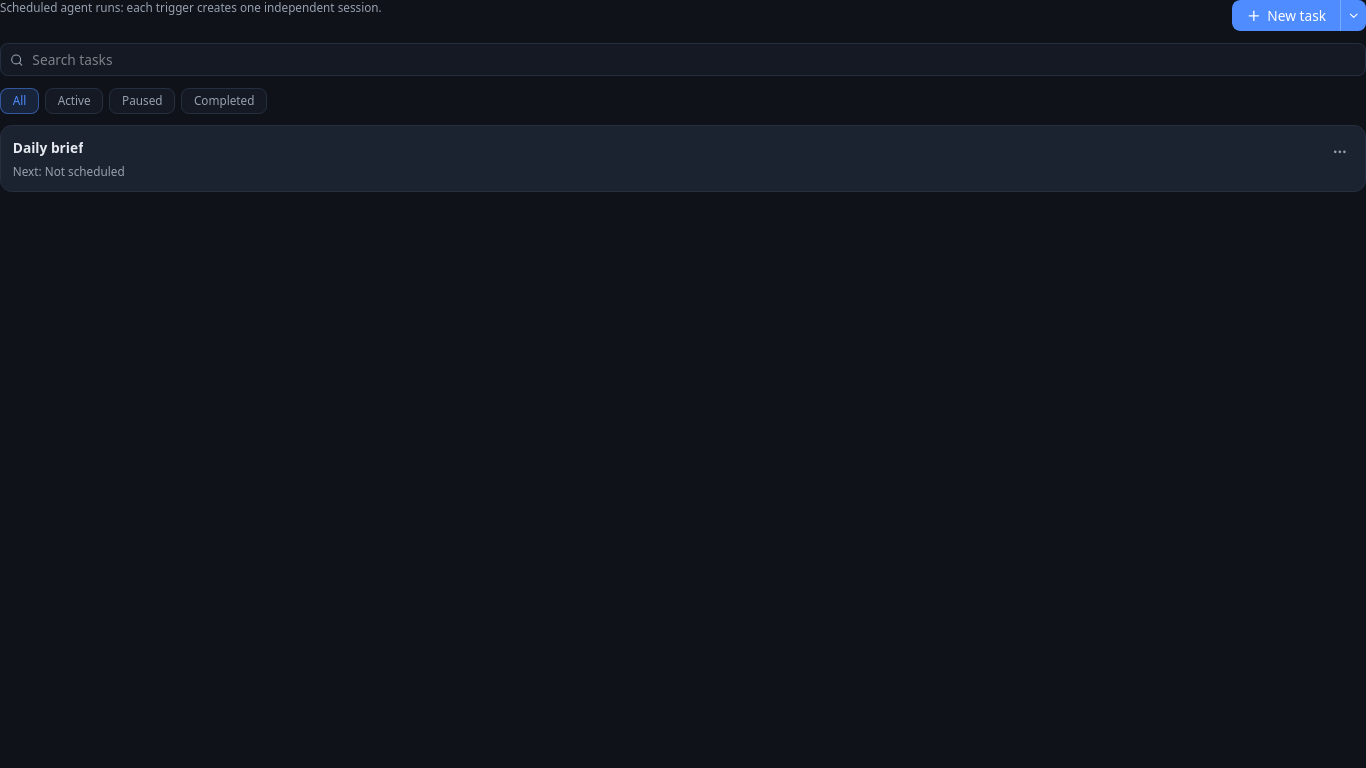
Test: AutomationsView › refuses an unusable run limit instead of saving it
The image size is (1366, 768).
Click the text "Daily brief". click: [48, 148]
box: [13,138,84,158]
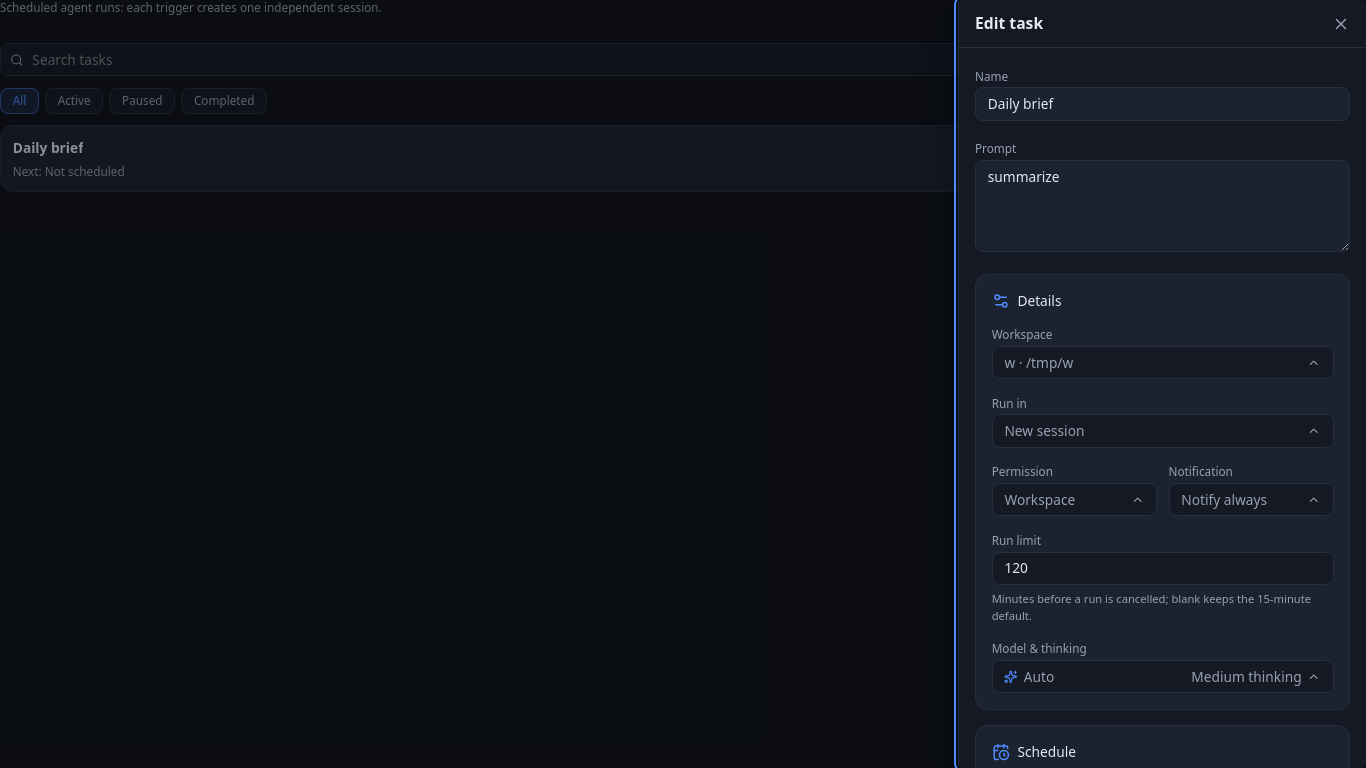
Replace the text in the number field with "0". click: [1163, 568]
box: [993,552,1333,584]
(page scrolled)
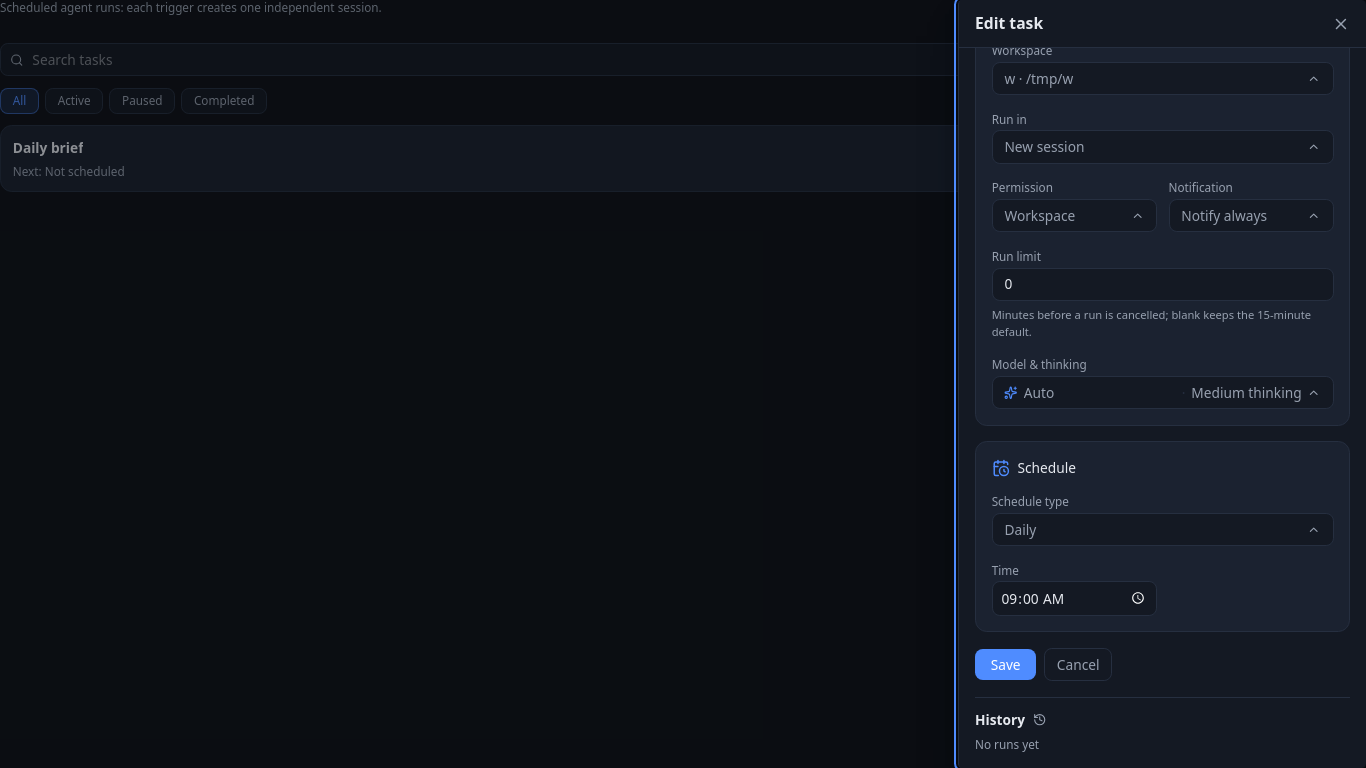
Click the button "Save". click: [1006, 665]
box: [975,649,1036,680]
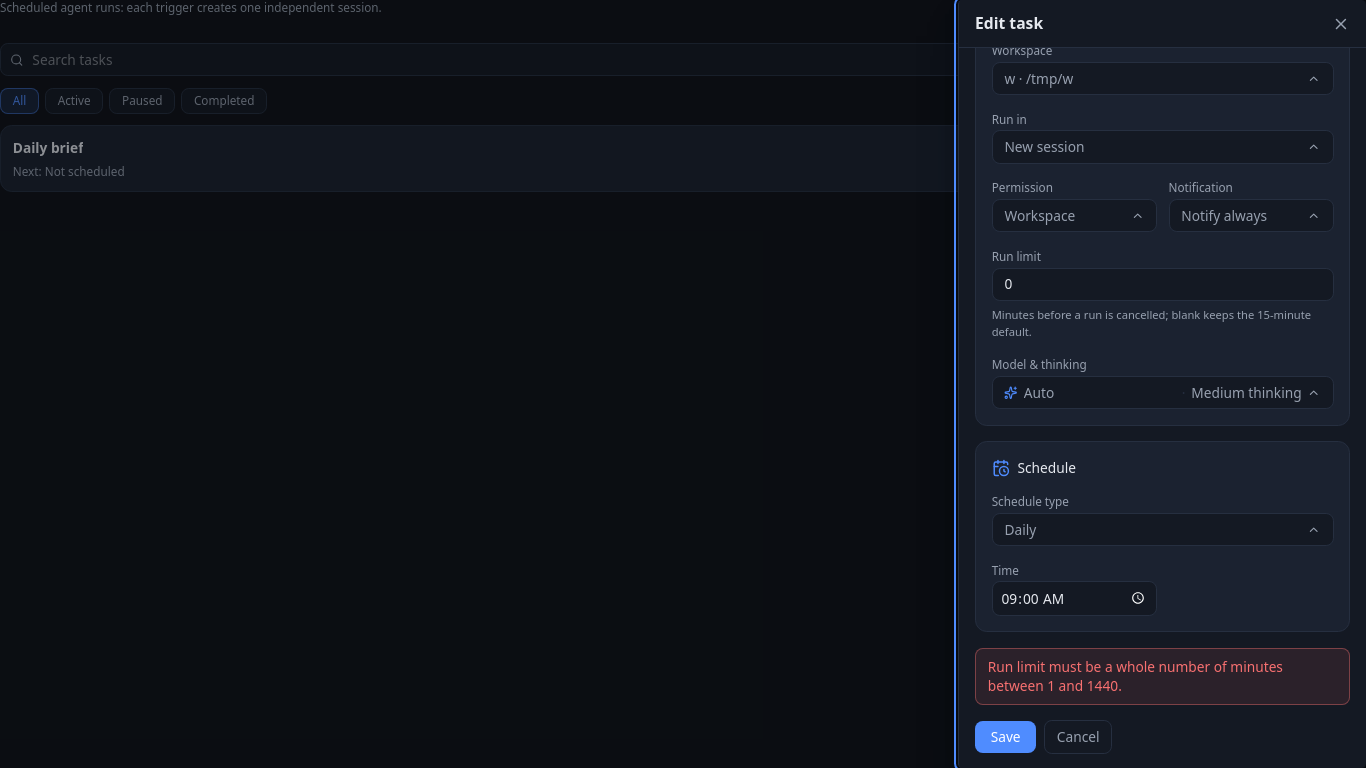
Check: the text "Run limit must be a whole number" is shown, box [988,657,1283,695]
